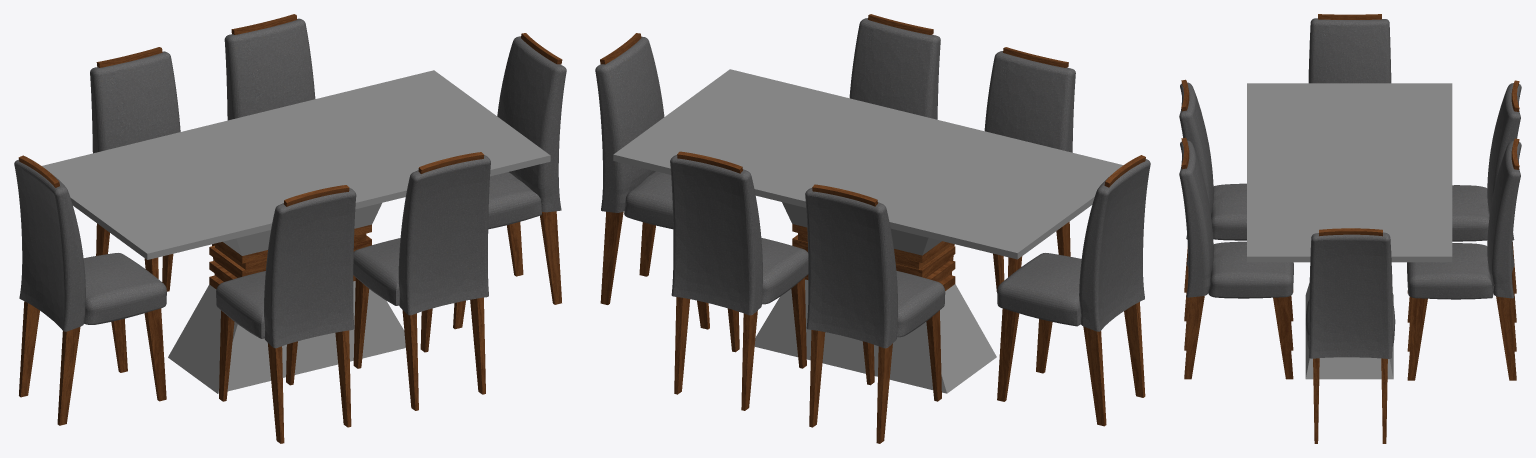
The model's file is mesa002.glb.
The picture shows the model from 3 angles, left to right: view 1: azimuth 30°, elevation 25°; view 2: azimuth 150°, elevation 25°; view 3: azimuth 270°, elevation 25°; orthographic projection. The views are drawn at different scales.
Visible parts, largest first — view 1: Plane, Plane.004, Plane.021, Plane.079, Plane.075, Plane.071, Plane.029, Plane.078, Plane.077, Plane.019, Plane.006, Plane.005 (+5 smaller); view 2: Plane, Plane.071, Plane.075, Plane.079, Plane.029, Plane.021, Plane.004, Plane.078, Plane.077, Plane.069, Plane.073, Plane.074 (+5 smaller); view 3: Plane, Plane.029, Plane.079, Plane.070, Plane.020, Plane.021, Plane.071, Plane.069, Plane.019, Plane.074, Plane.005, Plane.004 (+4 smaller).
Boxes of the visible parts, x1,y1,x2,y2 form: Plane: [42, 70, 550, 393]; Plane.004: [264, 188, 356, 348]; Plane.021: [398, 155, 490, 315]; Plane.079: [14, 159, 85, 331]; Plane.075: [90, 51, 180, 153]; Plane.071: [224, 18, 315, 120]; Plane.029: [497, 36, 566, 212]; Plane.078: [83, 253, 166, 324]; Plane.077: [19, 301, 166, 425]; Plane.019: [353, 277, 485, 410]; Plane.006: [219, 310, 351, 443]; Plane.005: [216, 271, 265, 338]; Plane: [613, 69, 1123, 393]; Plane.071: [670, 155, 762, 315]; Plane.075: [805, 188, 897, 348]; Plane.079: [1079, 159, 1150, 331]; Plane.029: [595, 36, 664, 212]; Plane.021: [849, 18, 940, 119]; Plane.004: [984, 51, 1075, 152]; Plane.078: [997, 253, 1081, 326]; Plane.077: [997, 302, 1145, 426]; Plane.069: [674, 277, 806, 410]; Plane.073: [809, 310, 941, 443]; Plane.074: [896, 270, 945, 337]; Plane: [1247, 83, 1452, 379]; Plane.029: [1309, 232, 1392, 358]; Plane.079: [1308, 18, 1391, 83]; Plane.070: [1407, 243, 1493, 299]; Plane.020: [1208, 241, 1293, 298]; Plane.021: [1179, 140, 1213, 297]; Plane.071: [1487, 141, 1521, 298]; Plane.069: [1407, 296, 1516, 380]; Plane.019: [1184, 296, 1293, 379]; Plane.074: [1452, 185, 1489, 241]; Plane.005: [1211, 183, 1246, 240]; Plane.004: [1179, 82, 1213, 238].
Size of the model in its own units: 2.54 by 1.16 by 1.67.
4 materials, 3 textured.
